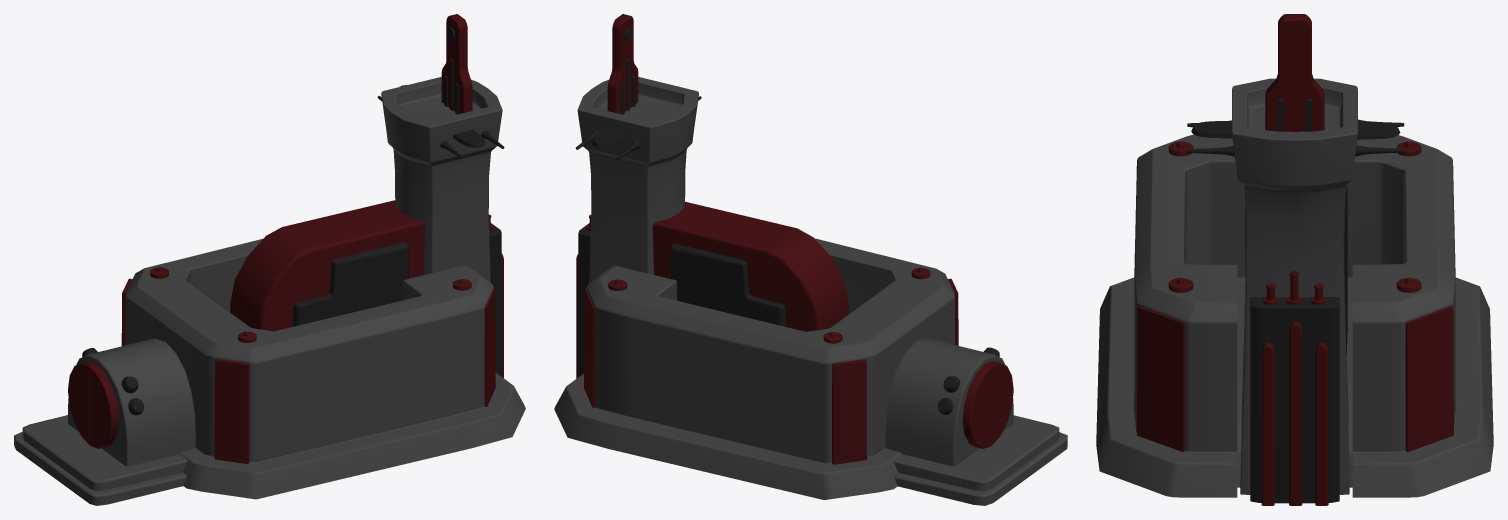
Rendered from colony_Drone_control_center.glb.
The picture shows the model from 3 angles, left to right: view 1: azimuth 30°, elevation 25°; view 2: azimuth 150°, elevation 25°; view 3: azimuth 270°, elevation 25°; orthographic projection. The views are drawn at different scales.
Visible parts, largest first — view 1: Drone_control_center; view 2: Drone_control_center; view 3: Drone_control_center.
Part boxes in pixels (x1,y1,x2,y2): Drone_control_center: (14, 14, 525, 505); Drone_control_center: (554, 14, 1067, 505); Drone_control_center: (1096, 14, 1493, 505).
Size of the model in its own units: 1310 by 1023 by 788.
1 material, 1 textured.
